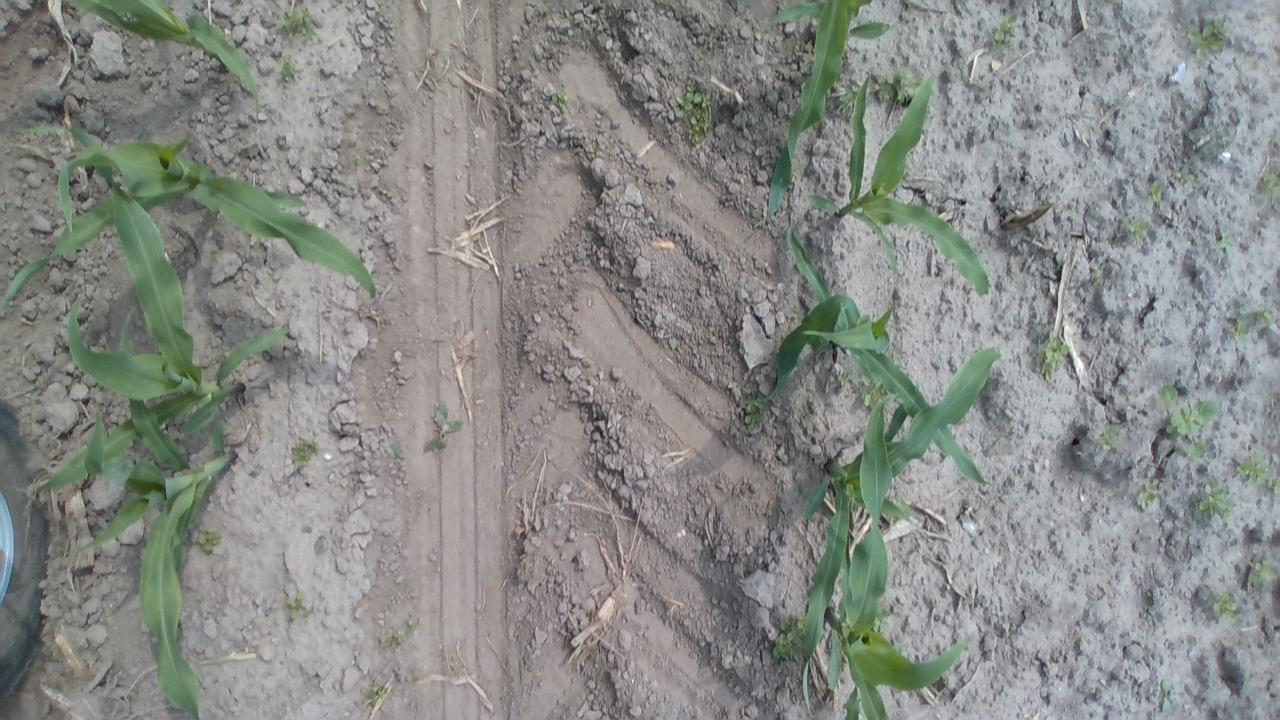Maize: (1, 121, 295, 499), (0, 105, 389, 319), (791, 344, 1004, 716), (73, 296, 241, 720), (766, 220, 995, 492), (818, 392, 982, 720), (807, 71, 995, 296), (754, 0, 895, 231), (66, 0, 264, 102)
Weeds: (1164, 390, 1219, 466), (668, 78, 718, 149), (424, 400, 466, 456), (1189, 476, 1236, 524), (874, 64, 924, 109), (1189, 14, 1234, 62), (1035, 330, 1072, 386), (273, 1, 323, 42), (374, 611, 420, 652), (770, 615, 804, 662), (1094, 414, 1128, 459), (1237, 448, 1276, 485), (280, 590, 318, 626), (1246, 554, 1280, 594), (859, 372, 893, 412), (1130, 472, 1162, 513), (990, 12, 1024, 50), (190, 524, 228, 557), (290, 434, 324, 470), (356, 679, 396, 708), (1197, 122, 1226, 160), (743, 397, 769, 438), (1229, 301, 1252, 344), (274, 53, 305, 84), (1212, 592, 1244, 622), (1154, 672, 1176, 714), (833, 79, 858, 112), (1259, 167, 1280, 206), (1130, 215, 1155, 244), (1144, 176, 1168, 206), (546, 86, 574, 110), (830, 367, 856, 392), (1257, 301, 1277, 332), (872, 606, 892, 637), (346, 144, 369, 170), (568, 144, 604, 160), (1155, 378, 1177, 404), (398, 657, 418, 684), (384, 434, 404, 461), (1088, 268, 1108, 290), (1215, 236, 1234, 256), (1178, 166, 1196, 187), (1266, 474, 1280, 494)
